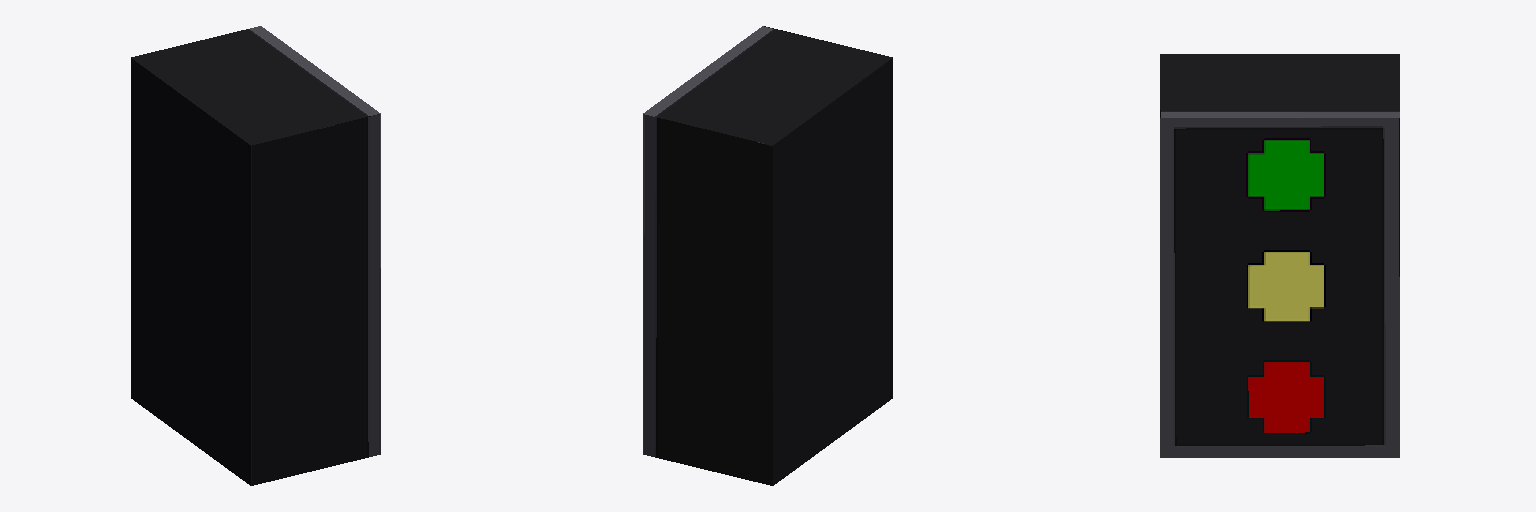
The picture shows the model from 3 angles: view 1: azimuth 30°, elevation 25°; view 2: azimuth 150°, elevation 25°; view 3: azimuth 270°, elevation 25°; orthographic projection.
Visible parts, largest first — view 1: Cube; view 2: Cube; view 3: Cube.
Part boxes in pixels (bbox=[...]): Cube: bbox=[131, 26, 380, 485]; Cube: bbox=[643, 26, 892, 485]; Cube: bbox=[1160, 54, 1399, 457].
Bounding box in the file's own units: 1.25 × 3.12 × 2.
1 materials, 1 textured.